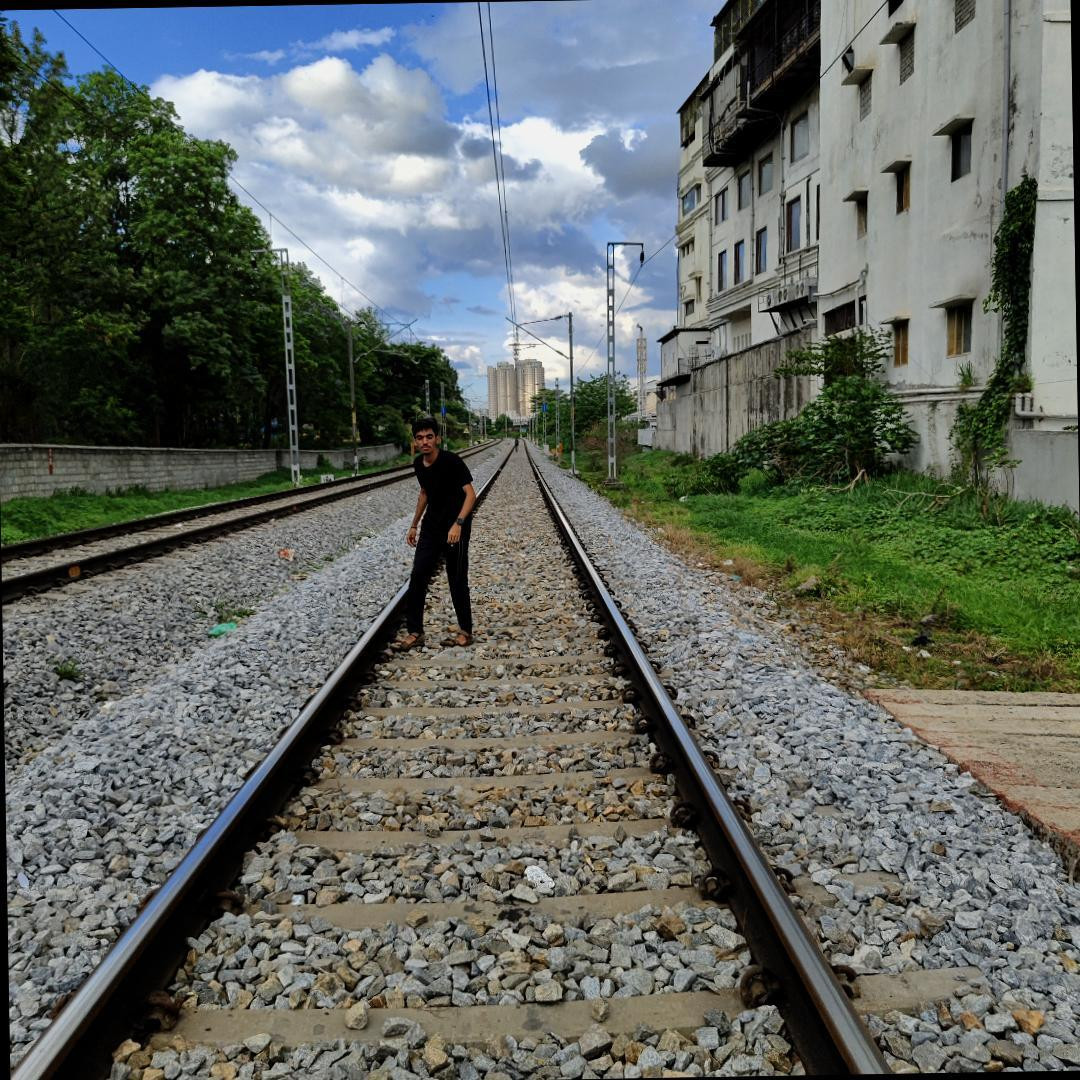standing: (386, 409, 490, 673)
